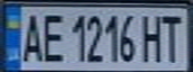1: (66, 10, 87, 63), (103, 11, 121, 63)
2: (84, 11, 106, 63)
6: (118, 11, 139, 63)
A: (18, 9, 45, 64)
E: (39, 10, 66, 63)
H: (139, 11, 166, 63)
T: (157, 11, 187, 63)
